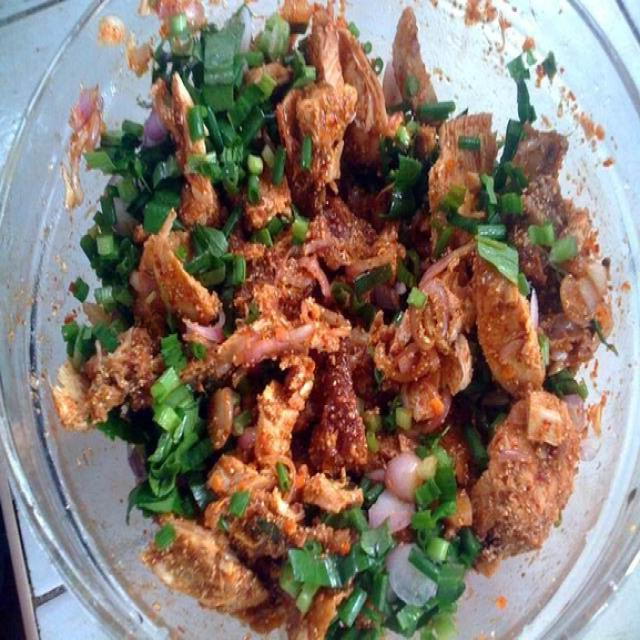鸡肉料理 含炸鸡: (36, 24, 624, 612)
